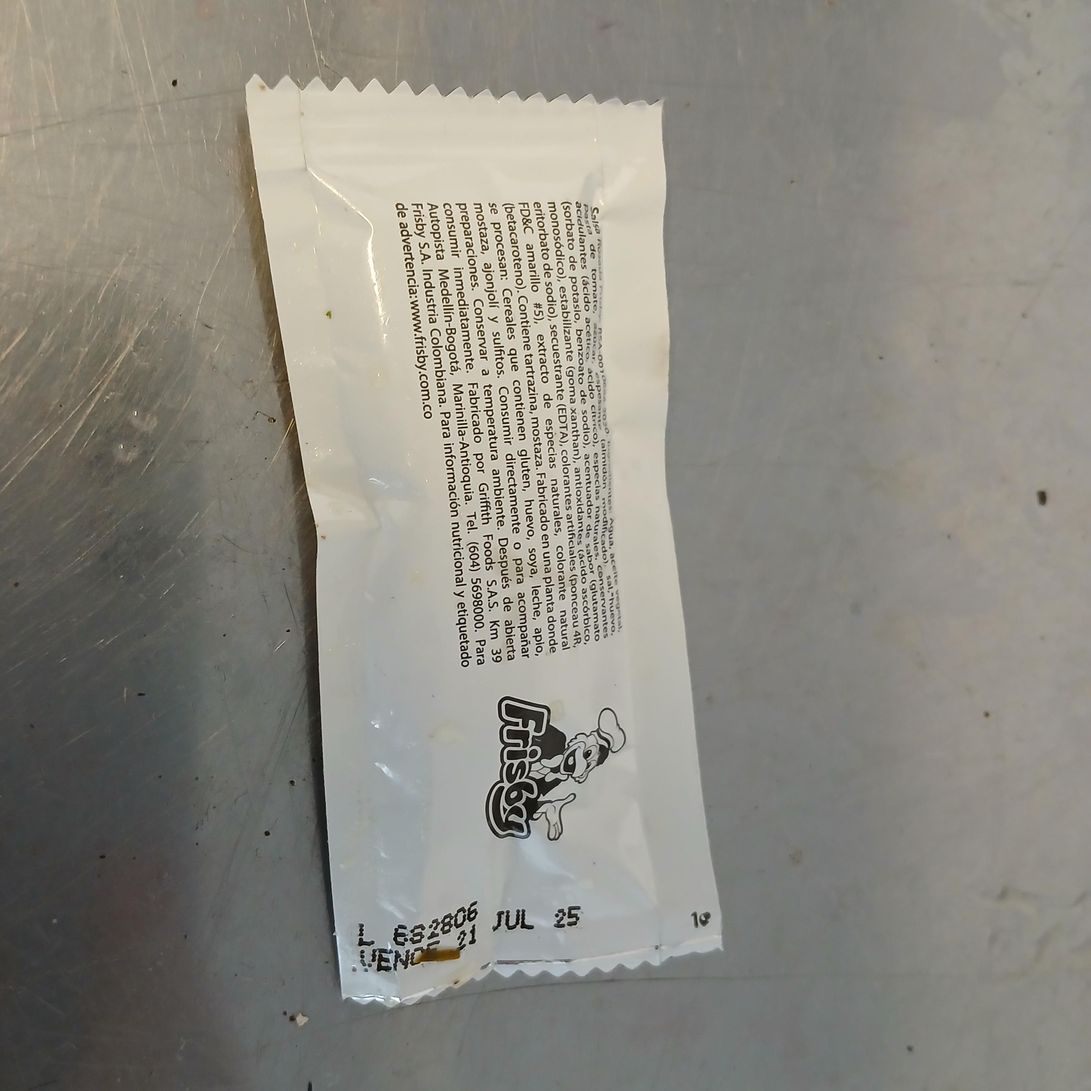Ordinario: (247, 76, 726, 1007)
